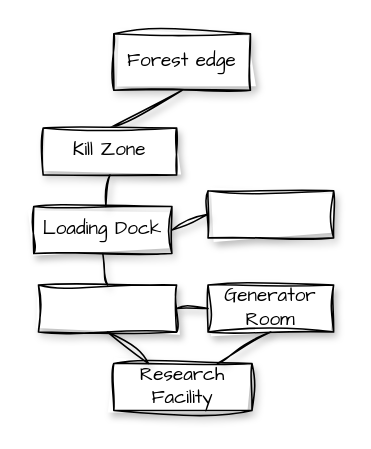
The diagram is 371 pixels wide and 449 high, and some of its shapes have lost their labels. The shapes that lost their labels are listed below. From the top down, each one's centre as x and y in pixels, then its label:
pixel 271 216: Catwalk
pixel 108 310: Office
